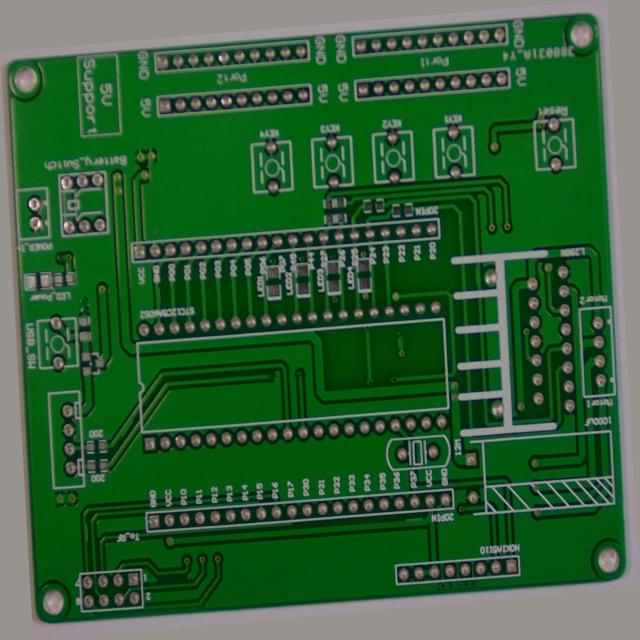spur: (394, 537, 421, 554), (101, 409, 122, 429), (54, 513, 67, 541), (146, 266, 160, 291), (396, 343, 411, 361)
